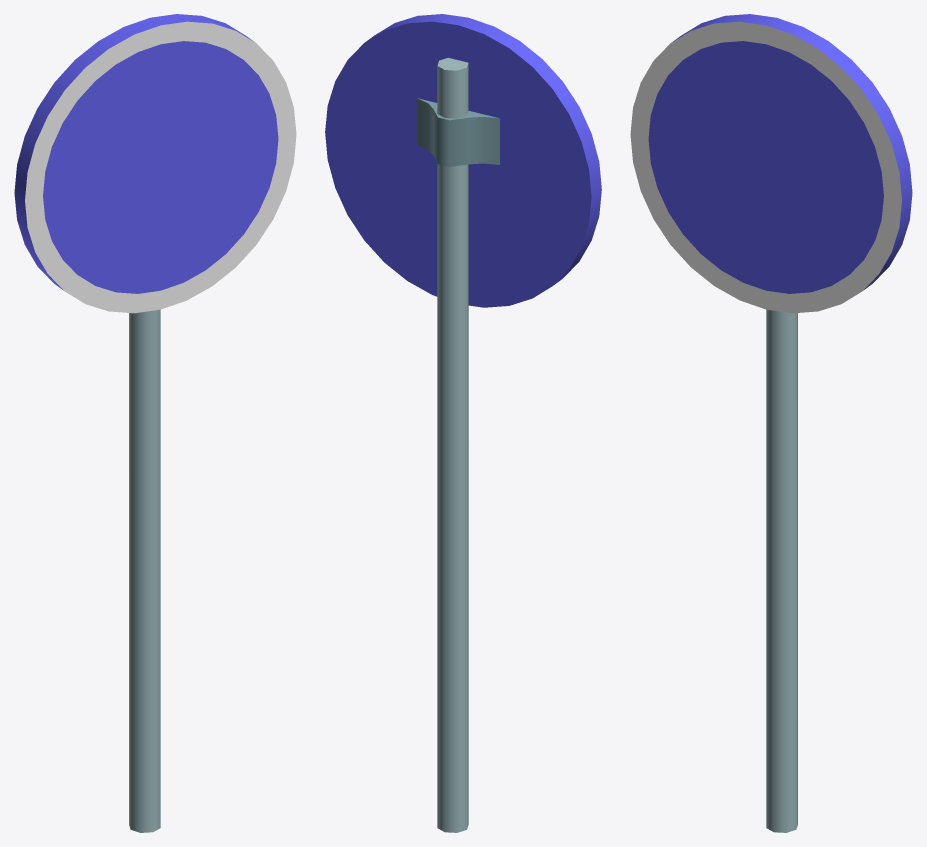
Rendered from BlueWayPanel.fbx.
The picture shows the model from 3 angles, left to right: view 1: azimuth 30°, elevation 25°; view 2: azimuth 150°, elevation 25°; view 3: azimuth 330°, elevation 25°; orthographic projection.
Parts seen in each view (by area): view 1: BlueWayPanel; view 2: BlueWayPanel; view 3: BlueWayPanel.
Part boxes in pixels (<box>): BlueWayPanel: <box>14,14,296,832</box>; BlueWayPanel: <box>325,14,601,832</box>; BlueWayPanel: <box>630,14,912,832</box>.
Size of the model in its own units: 2 by 0.3233 by 5.72.
